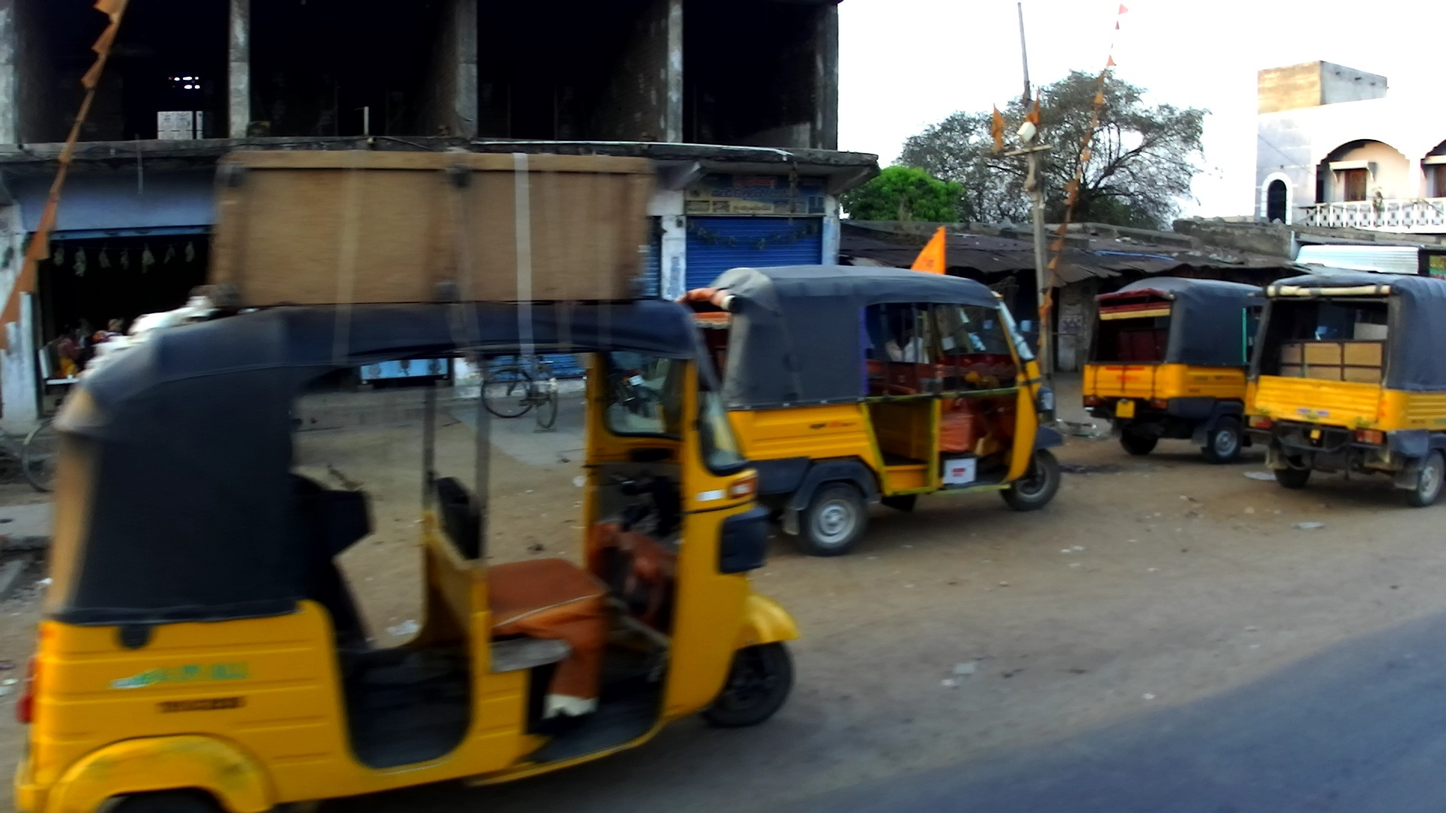autorickshaw: (14, 294, 801, 813), (674, 226, 1064, 558), (1244, 269, 1446, 509), (1080, 279, 1264, 467)
bicycle: (20, 415, 57, 495)
